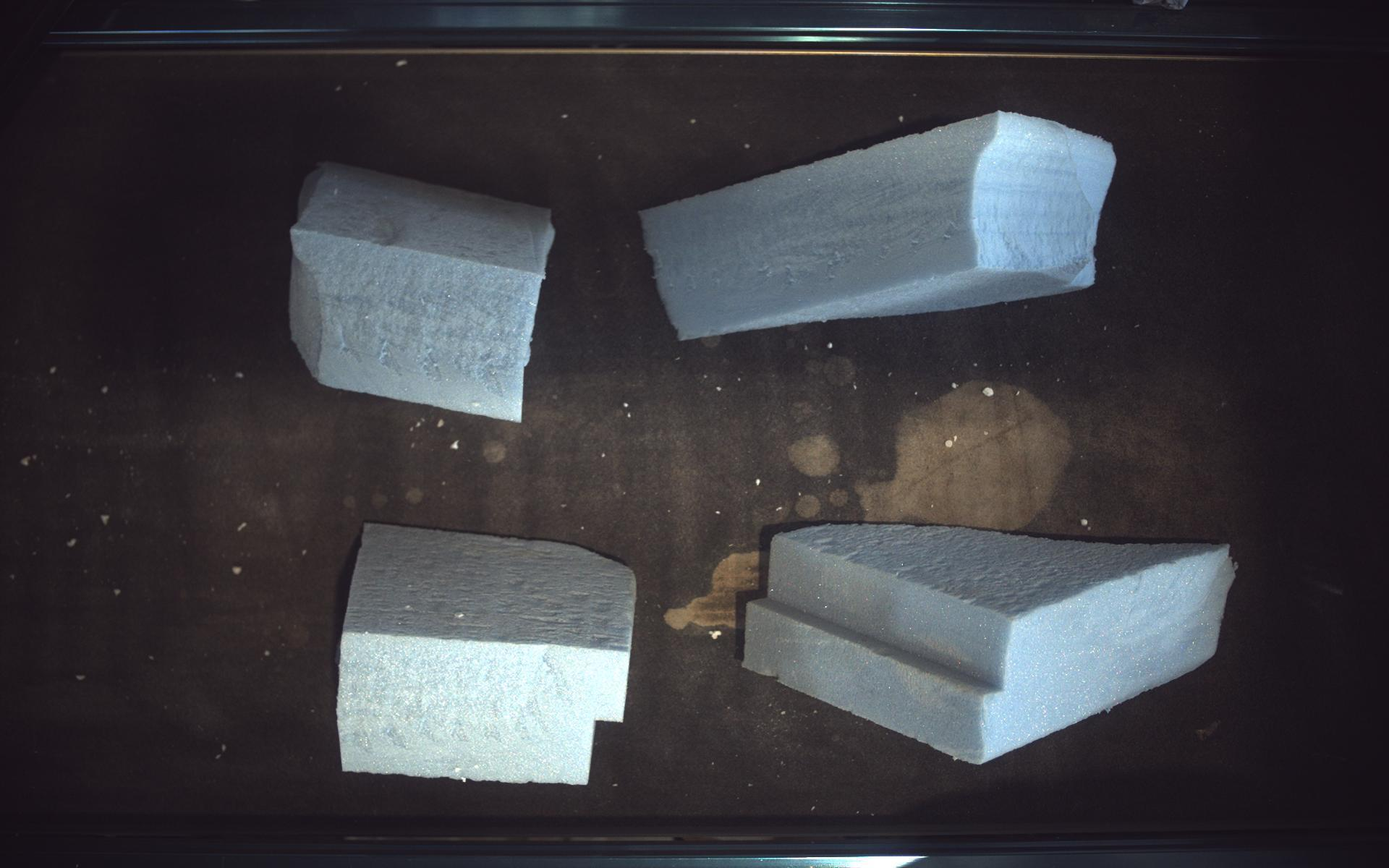foam: (745, 525, 1238, 765), (641, 111, 1118, 339), (336, 524, 637, 786), (289, 162, 555, 422)
